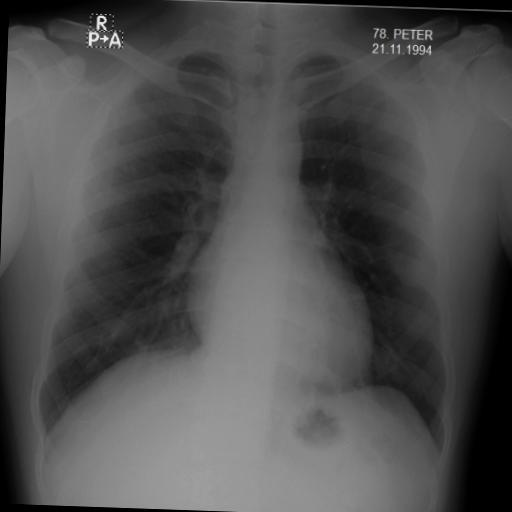normal: (25, 17, 465, 466)
